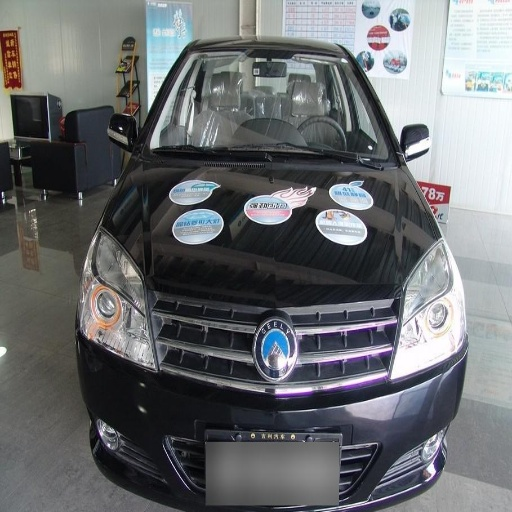front_bumper: (82, 300, 466, 511)
front_right_light: (82, 229, 156, 370)
hood: (107, 155, 439, 381)
